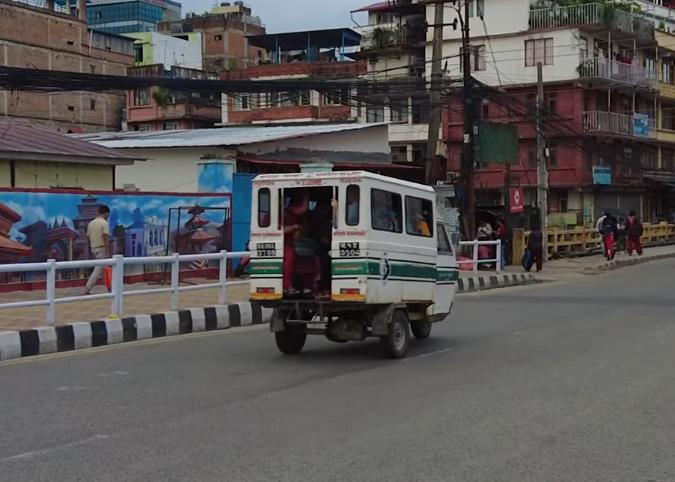tempo: (243, 167, 459, 366)
